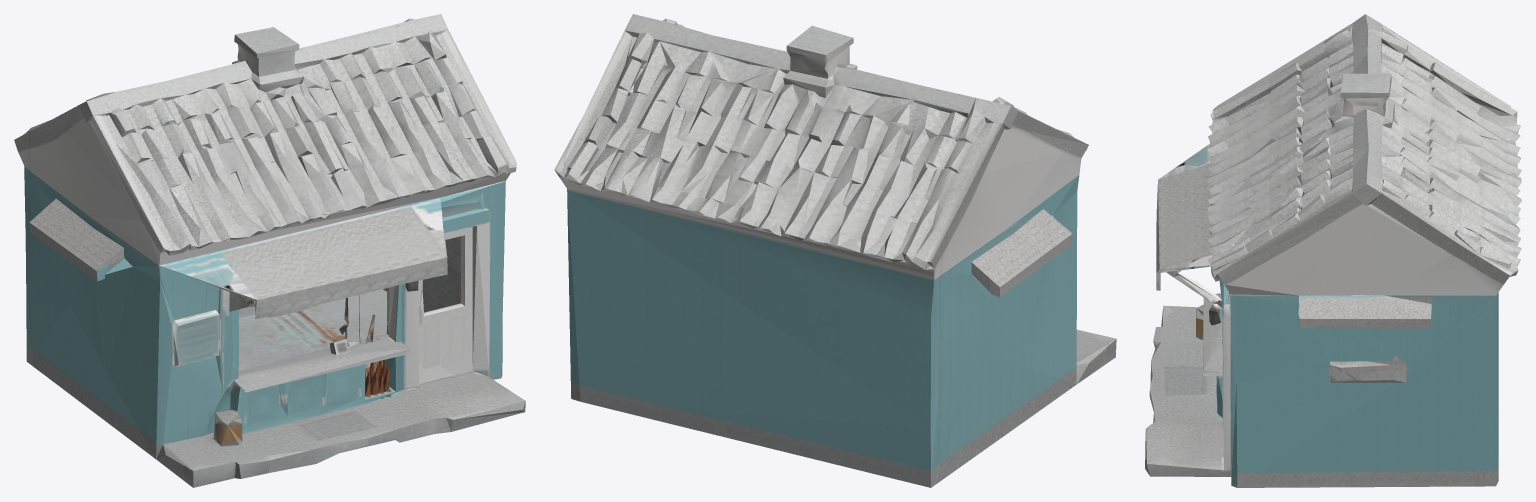
Rendered from bermuda-bait-tackle.glb.
3 renders of one model, left to right at view 1: azimuth 30°, elevation 25°; view 2: azimuth 150°, elevation 25°; view 3: azimuth 270°, elevation 25°, orthographic. The views are drawn at different scales.
Visible parts, largest first — view 1: output_unwrapped; view 2: output_unwrapped; view 3: output_unwrapped.
Boxes of the visible parts, bbox=[...] form: output_unwrapped: bbox=[14, 14, 525, 487]; output_unwrapped: bbox=[554, 14, 1116, 487]; output_unwrapped: bbox=[1145, 14, 1521, 487].
Size of the model in its own units: 1.9 by 1.52 by 1.6.
1 material, 1 textured.
